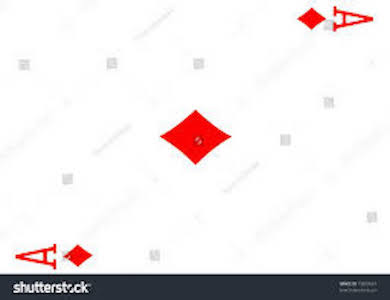AceOfDiamonds: (1, 1, 388, 273)
